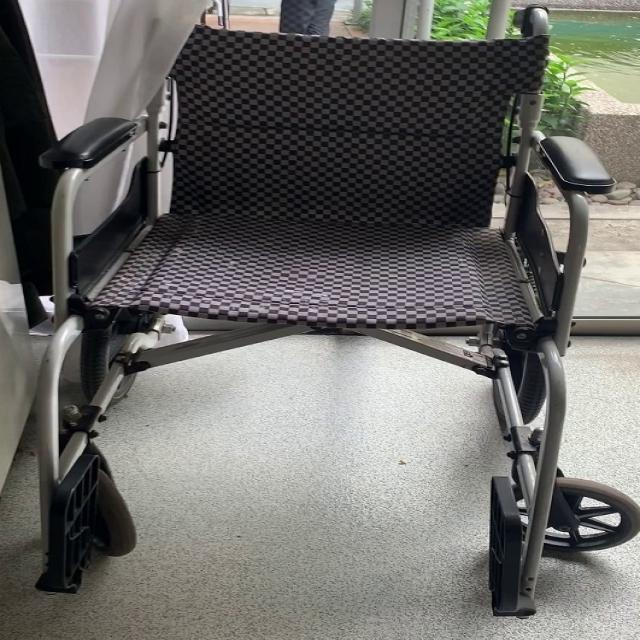wheelchair: (7, 0, 640, 629)
